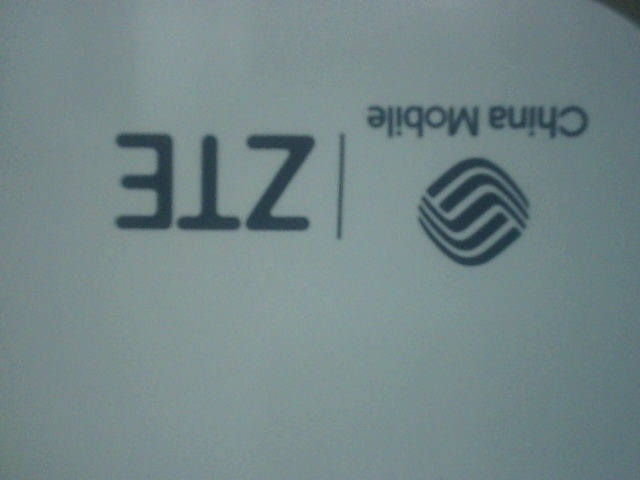AL_ZTEChinaMobile: (97, 83, 605, 269)
